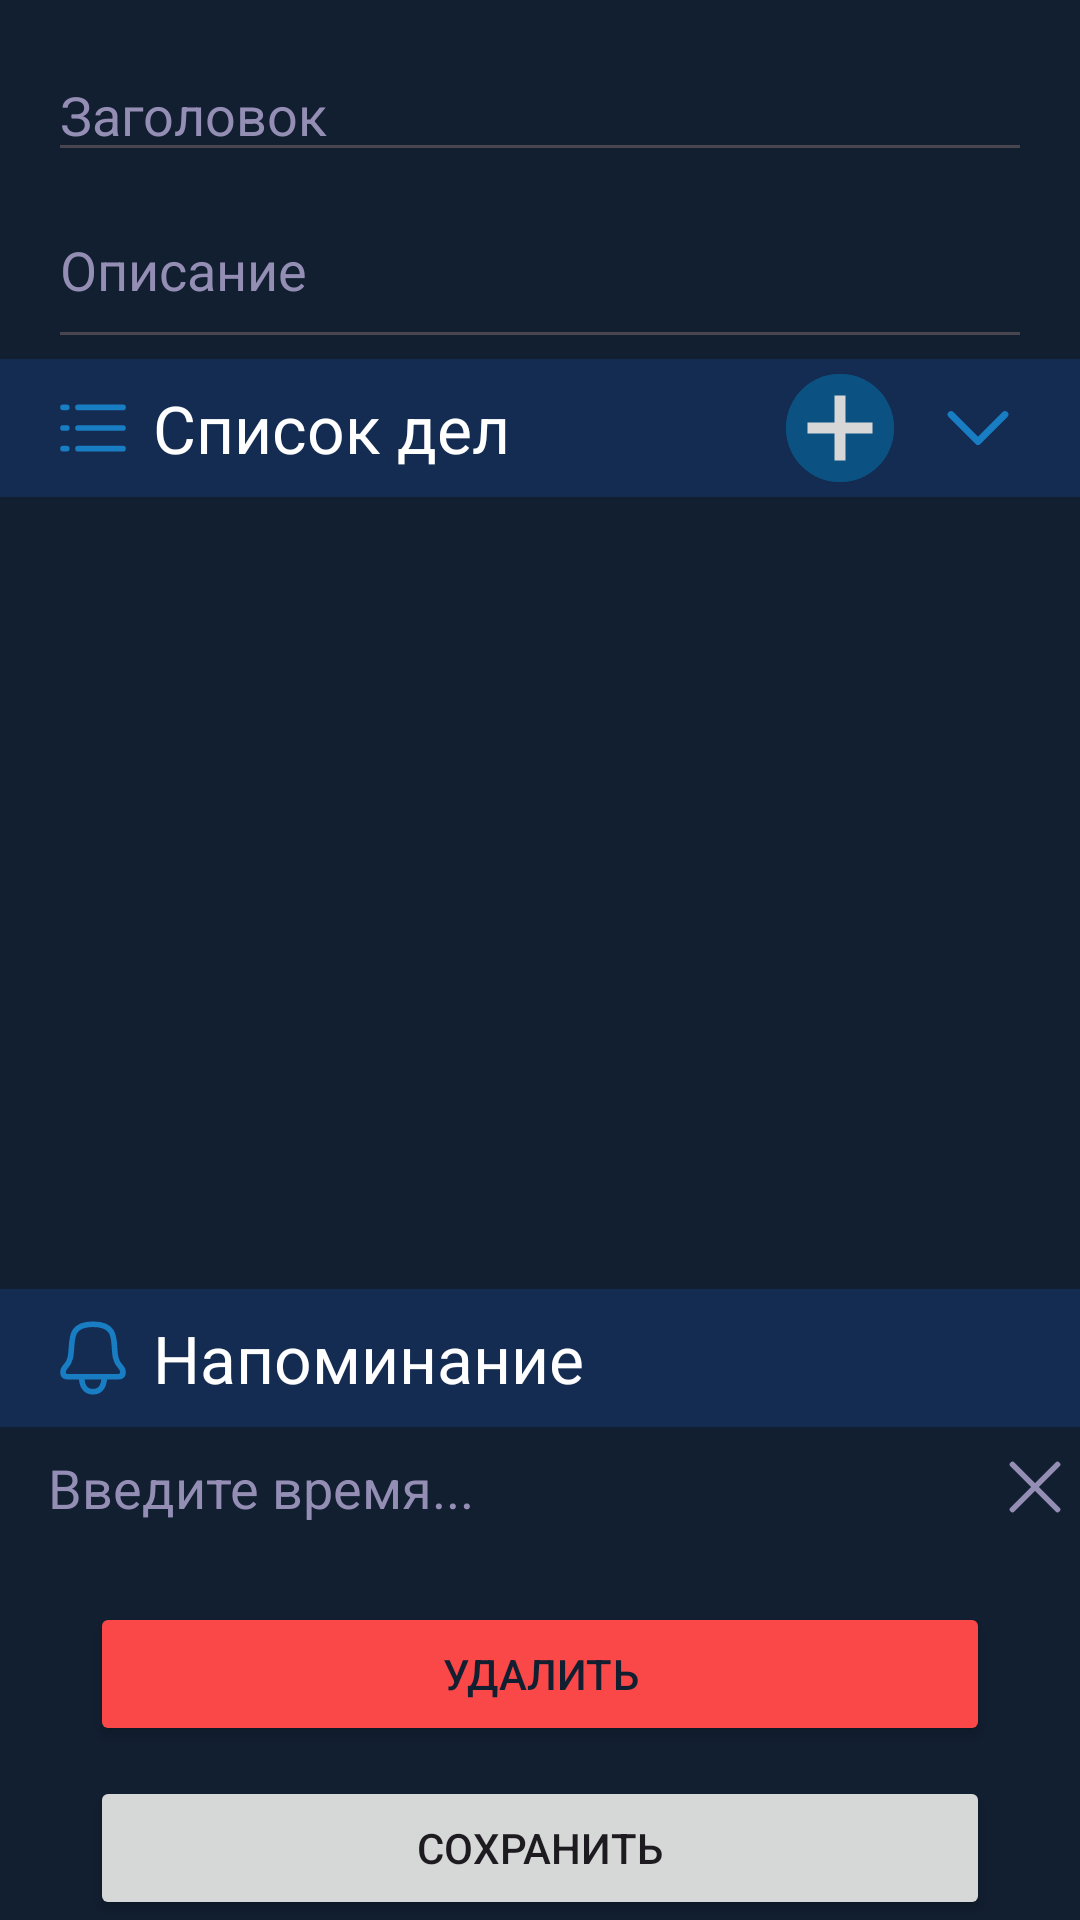

Named icons in this screenshot (1080*1920) and their bounding boxes, (x1, y1, x2, y2):
bell: (60, 1321, 126, 1395)
list: (60, 404, 126, 452)
Show ToDo List: (947, 411, 1009, 445)
